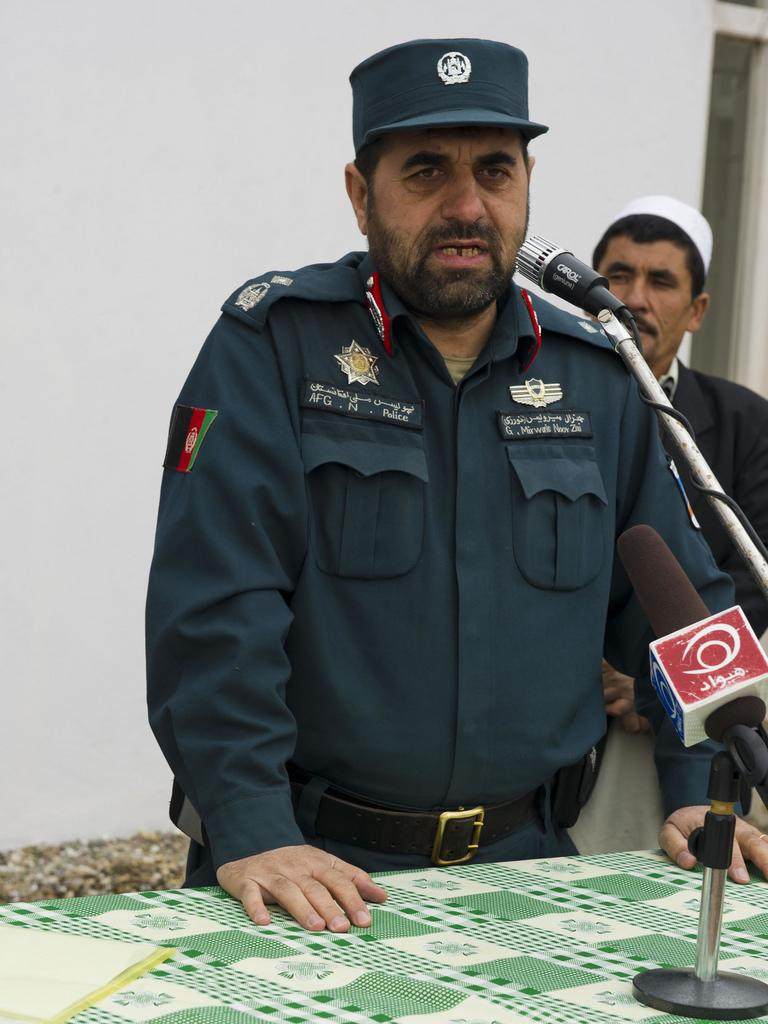Hat: (344, 36, 548, 154)
